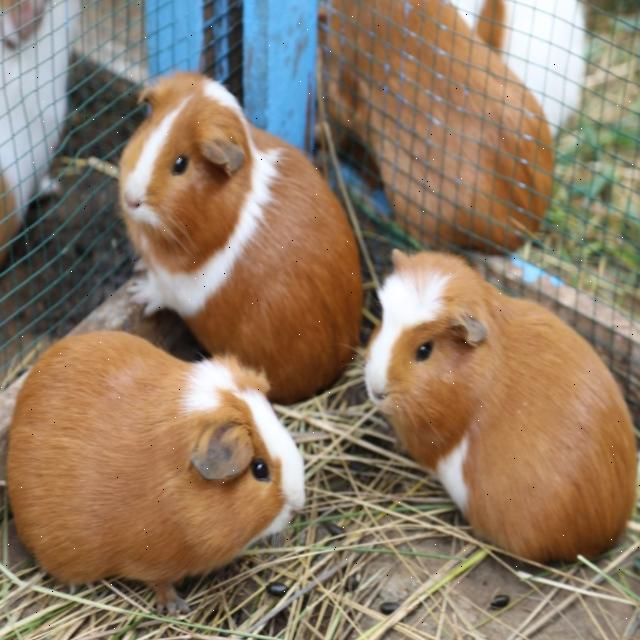guinea pig: (352, 245, 640, 592), (0, 317, 315, 603), (114, 62, 376, 355)
